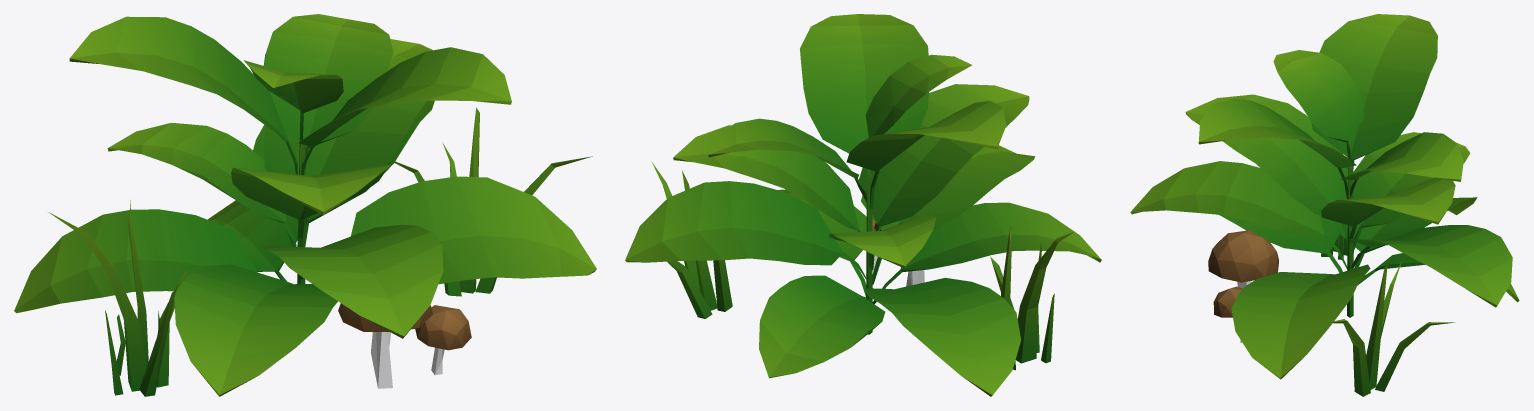
Rendered from Plant_04.fbx.
3 renders of one model, left to right at view 1: azimuth 30°, elevation 25°; view 2: azimuth 150°, elevation 25°; view 3: azimuth 270°, elevation 25°, orthographic. The views are drawn at different scales.
Visible parts, largest first — view 1: Plant_04_LOD0; view 2: Plant_04_LOD0; view 3: Plant_04_LOD0.
Boxes of the visible parts, box(x1,y1,x2,y2) form: Plant_04_LOD0: box(14, 14, 596, 396); Plant_04_LOD0: box(625, 14, 1101, 396); Plant_04_LOD0: box(1130, 14, 1519, 396).
Size of what is drawn, in the model's own units: 97.08 by 56.01 by 80.91.
